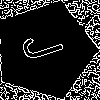J: (20, 25, 74, 64)
